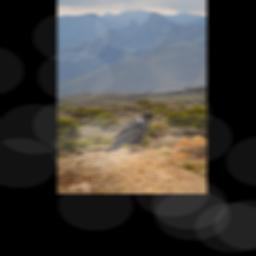Crow: (103, 112, 157, 156)
